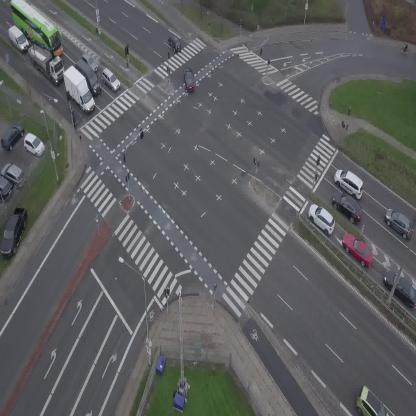bicycle: (71, 115, 79, 132), (401, 40, 408, 52)
car: (337, 228, 379, 272), (327, 187, 368, 227), (329, 165, 370, 201), (303, 200, 341, 237), (356, 386, 389, 416), (97, 67, 124, 94), (79, 51, 102, 74), (165, 33, 184, 54), (182, 66, 195, 93)
lorry: (17, 35, 73, 89), (58, 62, 97, 118), (72, 56, 105, 98), (3, 23, 33, 53)
